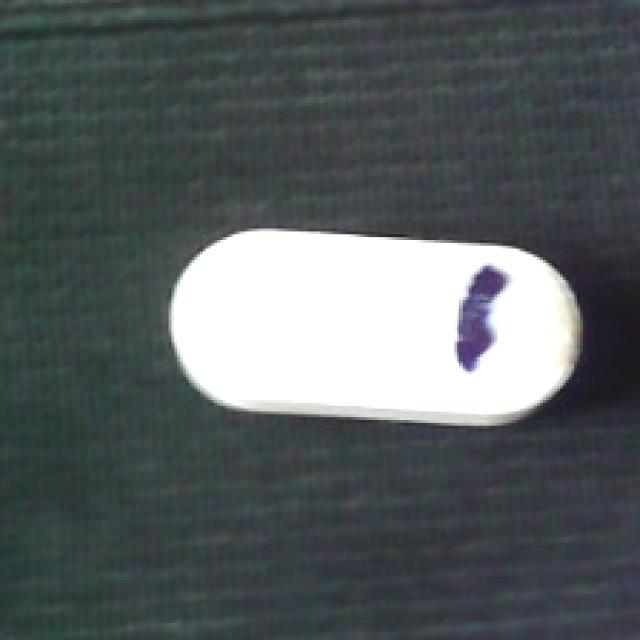defected: (166, 223, 594, 428)
